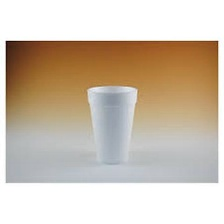paper_cup: (82, 80, 141, 168)
